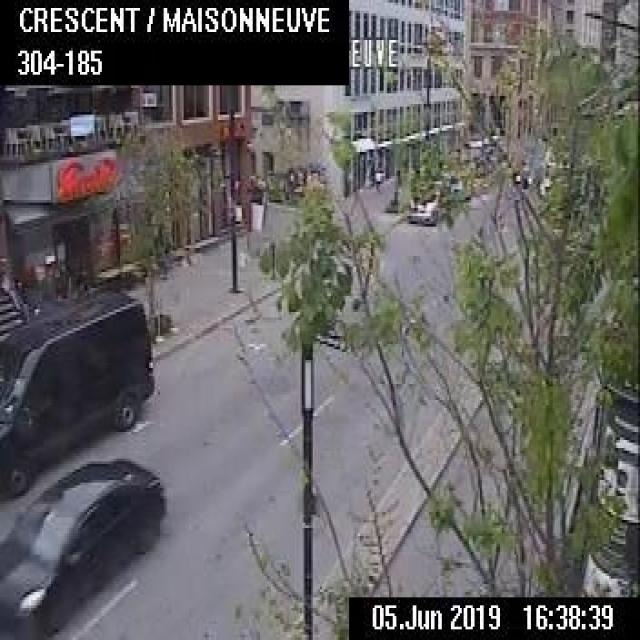vehicle: (0, 285, 153, 496), (0, 456, 164, 637), (407, 189, 446, 223), (514, 163, 534, 184)
